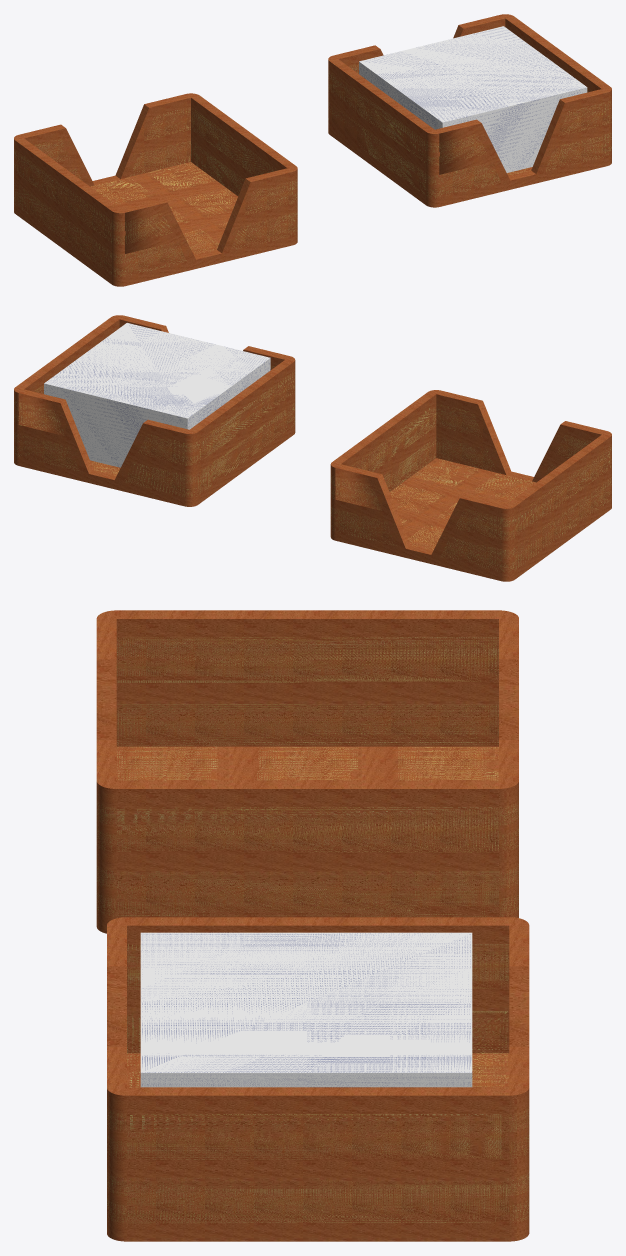
File: napkins.fbx
3 renders of one model, top to bottom at view 1: azimuth 30°, elevation 25°; view 2: azimuth 150°, elevation 25°; view 3: azimuth 270°, elevation 25°, orthographic. The views are drawn at different scales.
Visible parts, largest first — view 1: Group1, Group22, Group9, Group8, Group7, Group6; view 2: Group1, Group22, Group9, Group8, Group7, Group6; view 3: Group1, Group22, Group9, Group8.
Part boxes in pixels (x1,y1,x2,y2): Group1: (14, 93, 297, 286); Group22: (328, 14, 611, 207); Group9: (359, 26, 587, 126); Group8: (359, 65, 587, 128); Group7: (359, 69, 558, 129); Group6: (359, 73, 556, 129); Group1: (330, 390, 611, 581); Group22: (14, 315, 295, 506); Group9: (44, 323, 270, 421); Group8: (44, 362, 270, 425); Group7: (44, 365, 270, 429); Group6: (66, 369, 270, 429); Group1: (96, 610, 518, 933); Group22: (107, 917, 529, 1241); Group9: (140, 932, 472, 1080); Group8: (140, 1080, 472, 1087).
Bounding box in the file's own units: 57.08 × 8.2 × 21.5.
